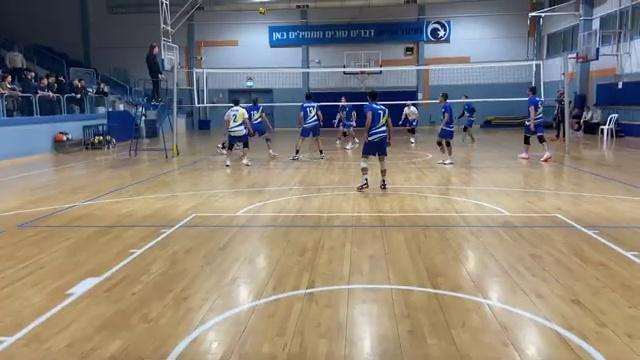ball: (257, 7, 269, 19)
